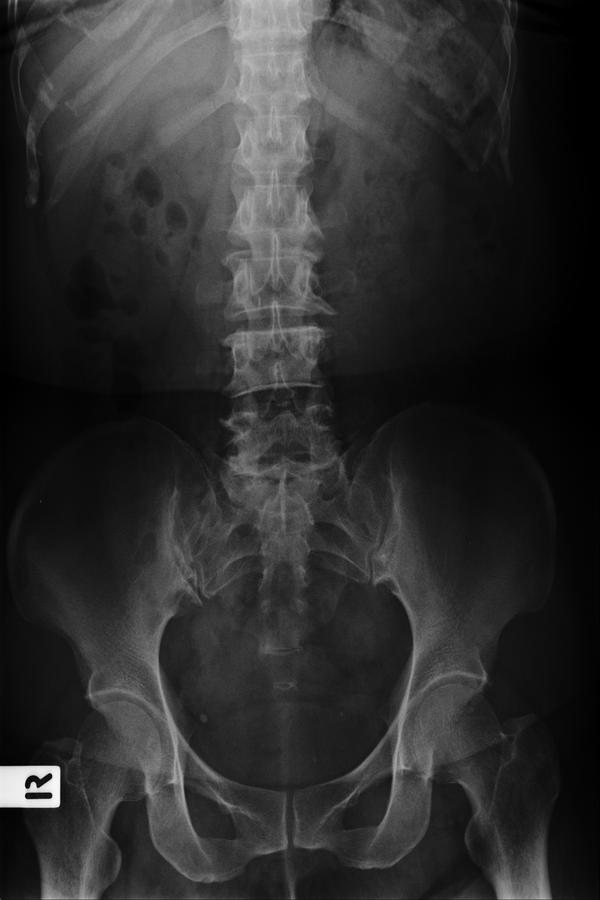not lumbar scoliosis: (205, 169, 348, 526)
